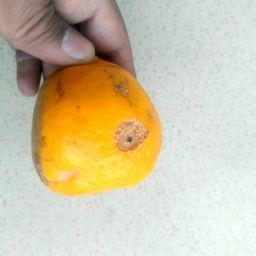Unripe: (32, 61, 159, 196)
